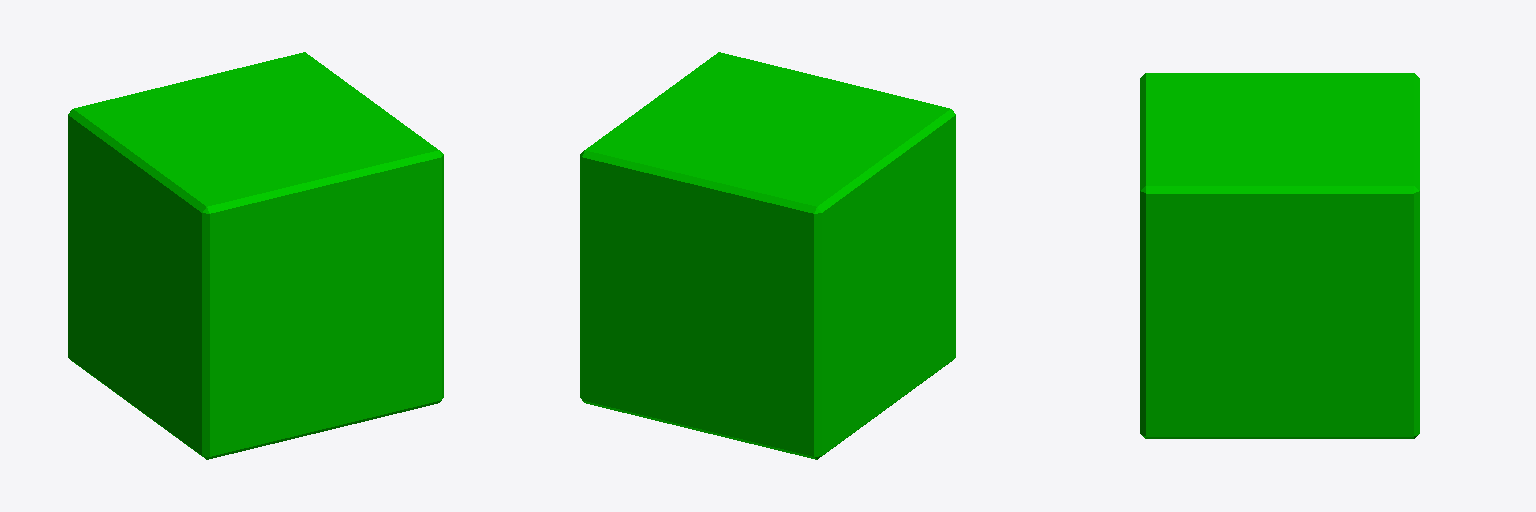
Rendered from block.obj.
3 views of the same model, side by side, from view 1: azimuth 30°, elevation 25°; view 2: azimuth 150°, elevation 25°; view 3: azimuth 270°, elevation 25° (orthographic).
Parts seen in each view (by area): view 1: Cube; view 2: Cube; view 3: Cube.
Part boxes in pixels (x1,y1,x2,y2): Cube: (68, 52, 443, 459); Cube: (580, 52, 955, 459); Cube: (1140, 73, 1419, 438).
Size of the model in its own units: 1 by 1 by 1.